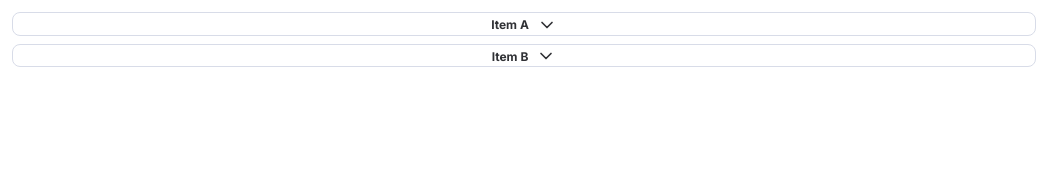
Test: Accordion › closes other items in single mode
This screenshot has width=1048, height=172.
Click the button "Item A" at (524, 25), box [13,15,1035,35]
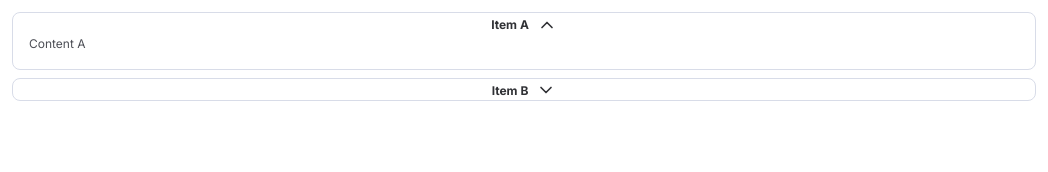
Click the button "Item B" at (524, 90), box [13,80,1035,100]
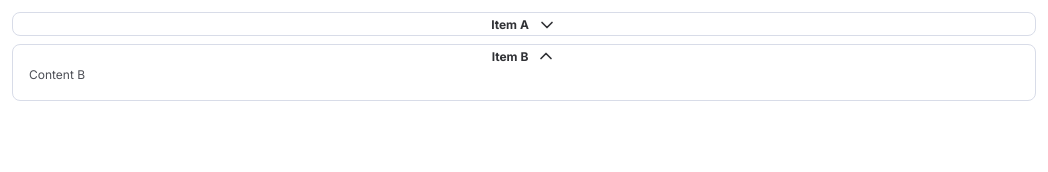
Check: the button "Item A" is collapsed, box [13,15,1035,35]
Check: the button "Item B" is expanded, box [13,46,1035,66]
